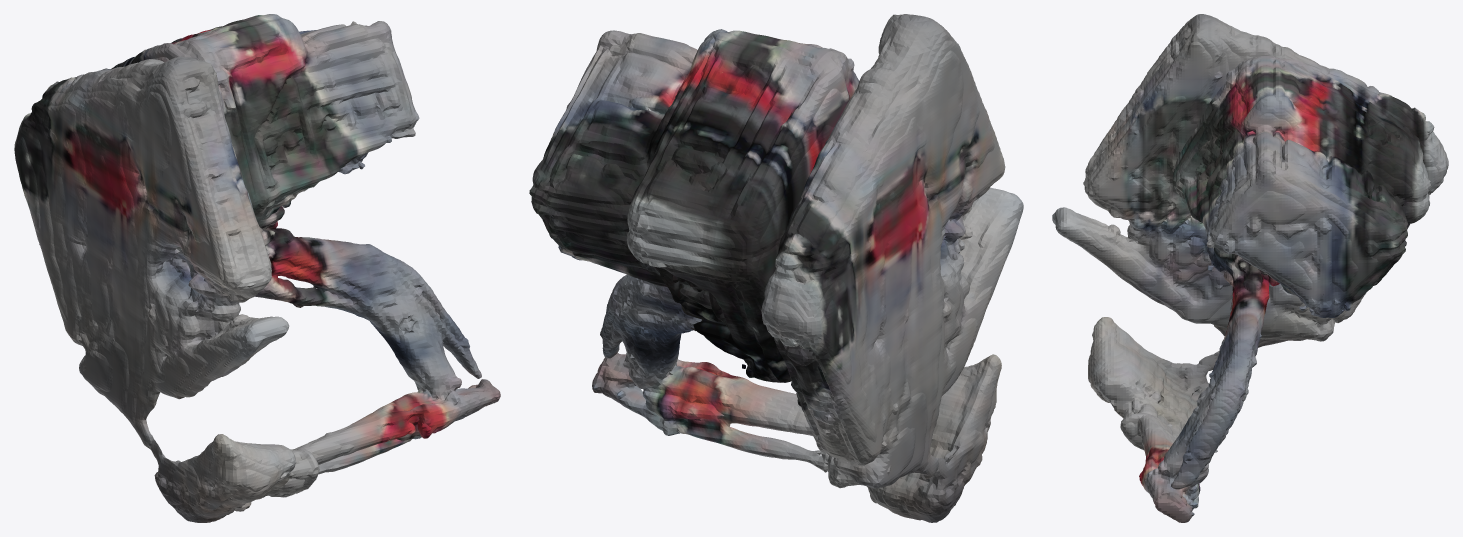
The picture shows the model from 3 angles, left to right: view 1: azimuth 30°, elevation 25°; view 2: azimuth 150°, elevation 25°; view 3: azimuth 270°, elevation 25°; orthographic projection. The views are drawn at different scales.
Visible parts, largest first — view 1: geometry_0; view 2: geometry_0; view 3: geometry_0.
Part boxes in pixels (x1,y1,x2,y2): geometry_0: [14, 14, 500, 522]; geometry_0: [529, 14, 1023, 522]; geometry_0: [1052, 14, 1448, 522].
Bounding box in the file's own units: 0.8319 × 1.06 × 0.9178.
